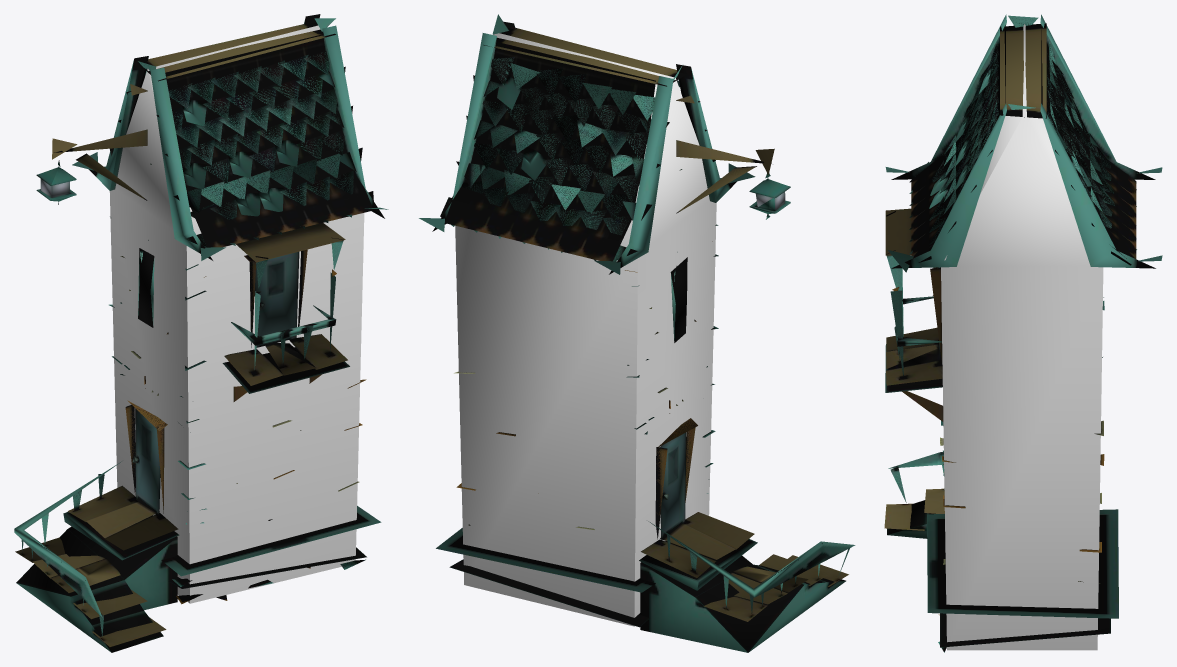
3 views of the same model, side by side, from view 1: azimuth 30°, elevation 25°; view 2: azimuth 150°, elevation 25°; view 3: azimuth 270°, elevation 25° (orthographic). The views are drawn at different scales.
Visible parts, largest first — view 1: CoatedCartoonHouse; view 2: CoatedCartoonHouse; view 3: CoatedCartoonHouse.
Part boxes in pixels (bbox=[...]): CoatedCartoonHouse: bbox=[14, 14, 388, 652]; CoatedCartoonHouse: bbox=[419, 14, 855, 652]; CoatedCartoonHouse: bbox=[884, 14, 1162, 652].
Size of the model in its own units: 361 by 609 by 275.
